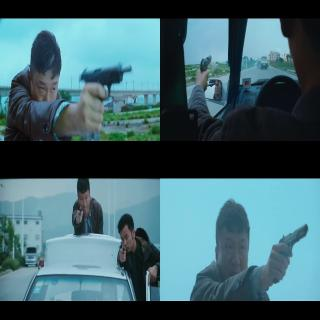gun: (75, 57, 135, 130), (270, 222, 308, 284), (198, 52, 212, 93), (119, 244, 125, 262), (76, 205, 82, 222)
